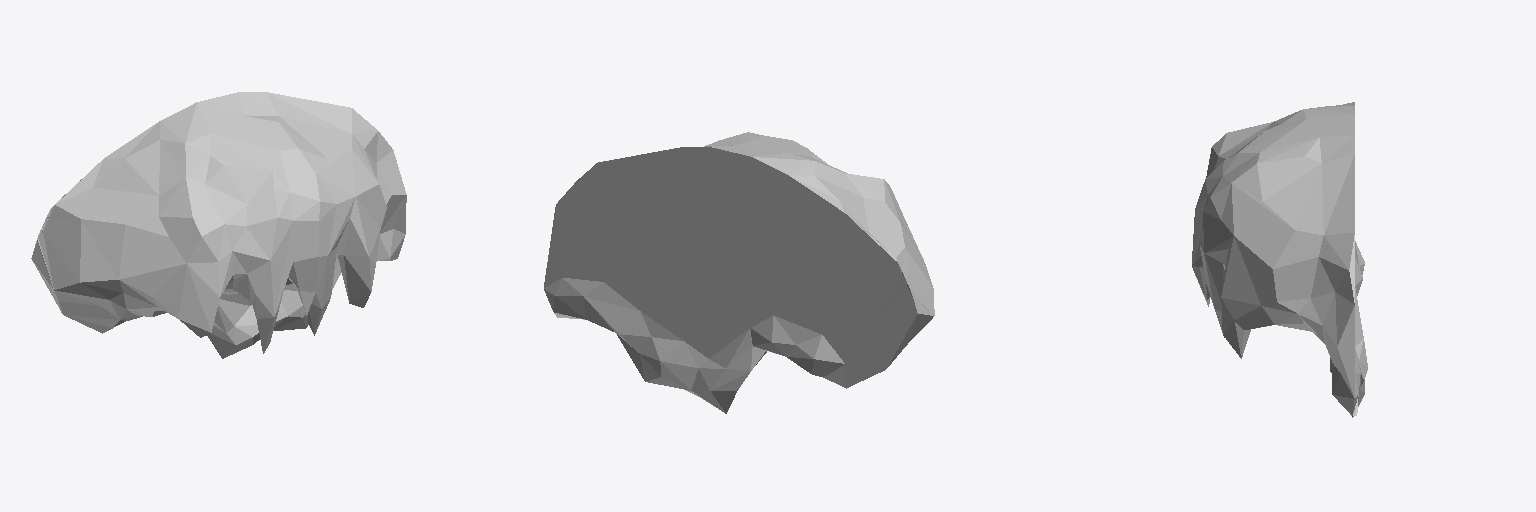
File: MOD_Glacier4.OBJ
3 views of the same model, side by side, from view 1: azimuth 30°, elevation 25°; view 2: azimuth 150°, elevation 25°; view 3: azimuth 270°, elevation 25° (orthographic).
Parts seen in each view (by area): view 1: Group28695; view 2: Group28695; view 3: Group28695.
Boxes of the visible parts, <box> form: Group28695: <box>31,92,406,358</box>; Group28695: <box>544,132,934,413</box>; Group28695: <box>1192,102,1367,417</box>.
Bounding box in the file's own units: 14.33 × 9.63 × 5.86.